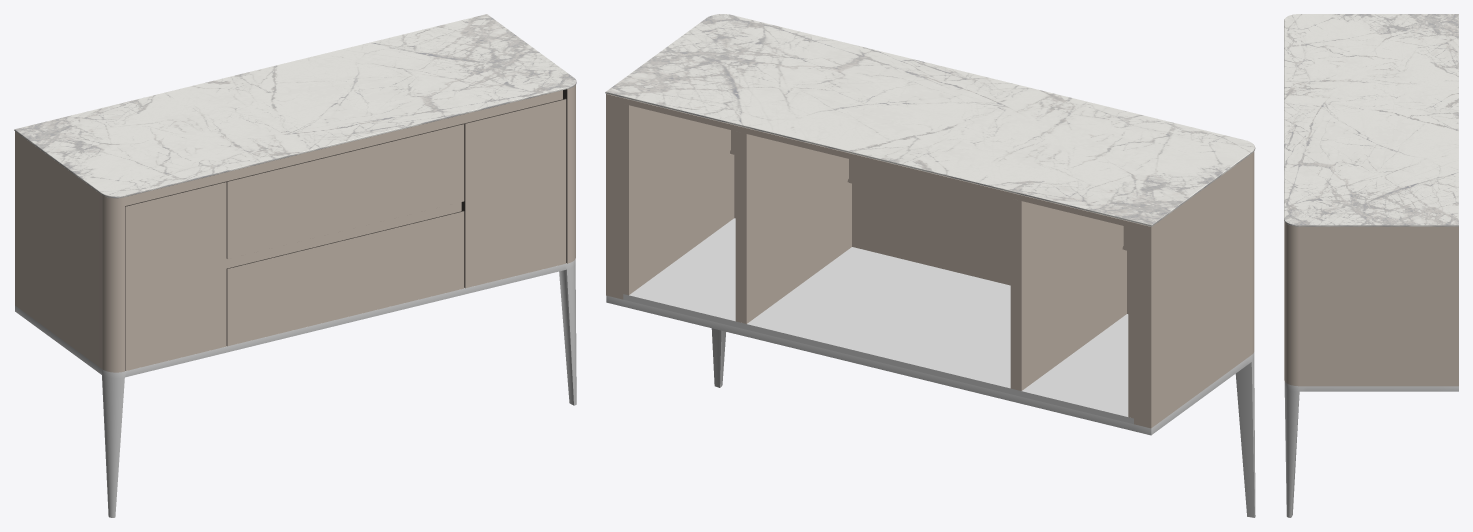
The picture shows the model from 3 angles, left to right: view 1: azimuth 30°, elevation 25°; view 2: azimuth 150°, elevation 25°; view 3: azimuth 270°, elevation 25°; orthographic projection. The views are drawn at different scales.
Parts seen in each view (by area): view 1: ER08; view 2: ER08; view 3: ER08.
Part boxes in pixels (box(x1,y1,x2,y2)): ER08: box(14, 14, 576, 517); ER08: box(605, 14, 1255, 517); ER08: box(1284, 14, 1458, 517).
Bounding box in the file's own units: 1.6 × 1.04 × 0.56.
Materials: 5 (1 with a texture image).
